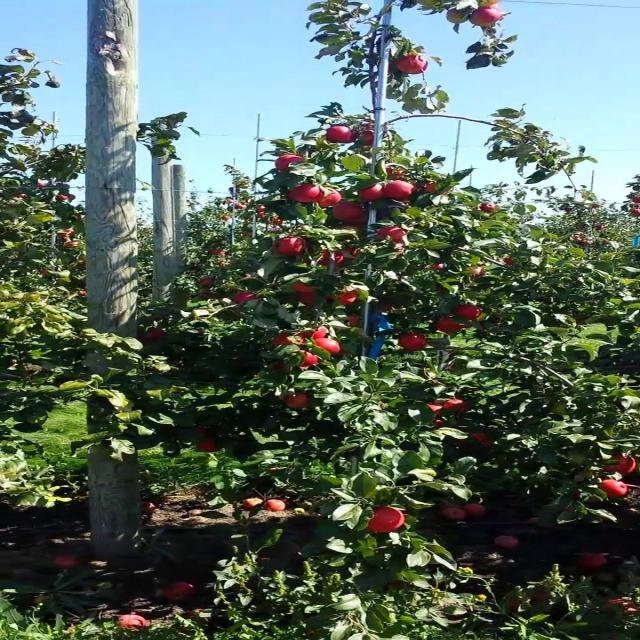apple: (367, 506, 404, 532), (333, 202, 367, 224), (469, 5, 502, 27), (604, 454, 638, 475), (273, 236, 307, 256), (333, 202, 362, 224), (396, 54, 427, 74), (324, 125, 356, 144), (291, 281, 316, 305), (289, 184, 322, 202), (598, 479, 629, 498), (382, 180, 413, 199), (436, 316, 467, 334), (398, 332, 427, 350), (358, 182, 384, 202), (316, 189, 342, 208), (276, 154, 304, 171), (453, 304, 482, 320), (138, 328, 167, 344), (338, 209, 367, 225), (271, 332, 304, 346), (282, 392, 309, 409), (376, 226, 404, 242), (318, 251, 347, 266), (382, 162, 407, 179), (314, 338, 338, 354), (442, 399, 469, 412), (300, 326, 329, 338), (231, 291, 256, 304), (338, 289, 358, 305), (300, 351, 320, 367), (196, 439, 220, 452), (469, 432, 493, 444), (447, 9, 467, 23), (467, 265, 487, 278), (271, 360, 291, 372), (373, 301, 393, 313), (340, 246, 360, 257), (360, 130, 373, 146), (478, 202, 496, 212), (431, 418, 447, 429), (478, 0, 500, 8), (422, 181, 436, 193), (427, 402, 442, 413), (347, 315, 360, 326), (196, 426, 209, 436), (431, 262, 447, 270), (502, 256, 516, 264), (360, 121, 373, 129)
